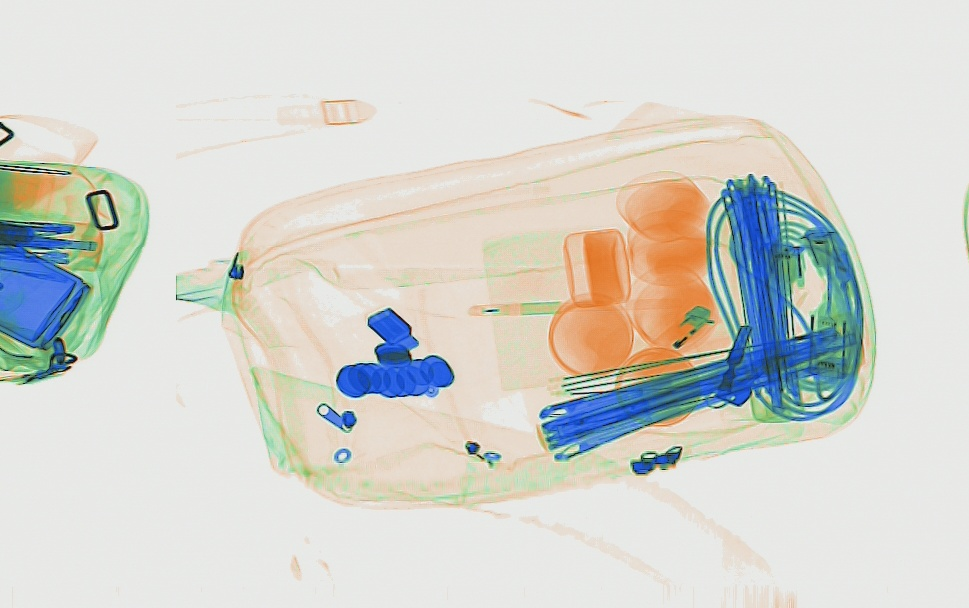lighter: (628, 302, 713, 380)
